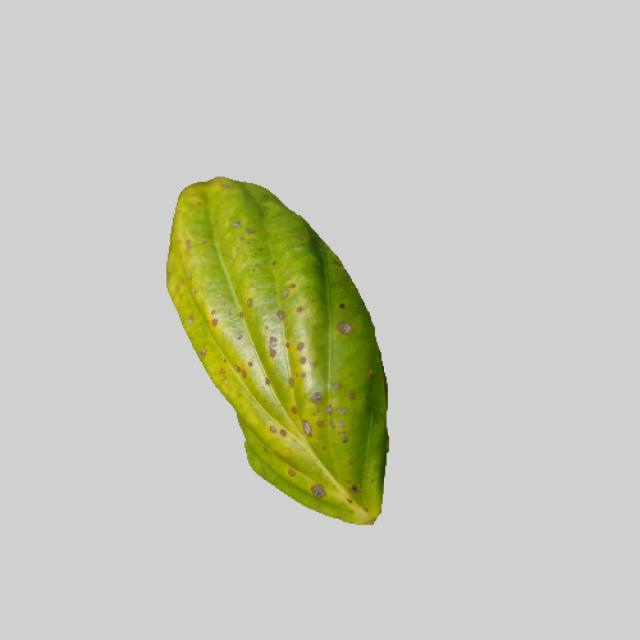yellow-mottle-virus: (156, 170, 393, 521)
